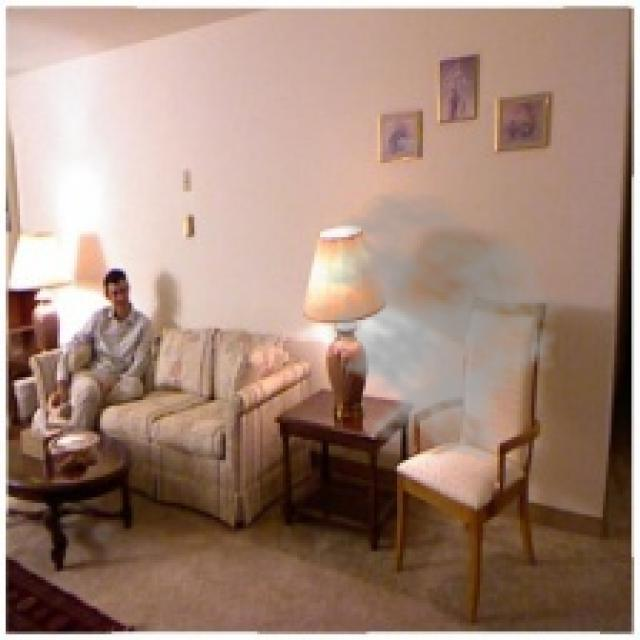Smoke: (300, 188, 569, 463)
